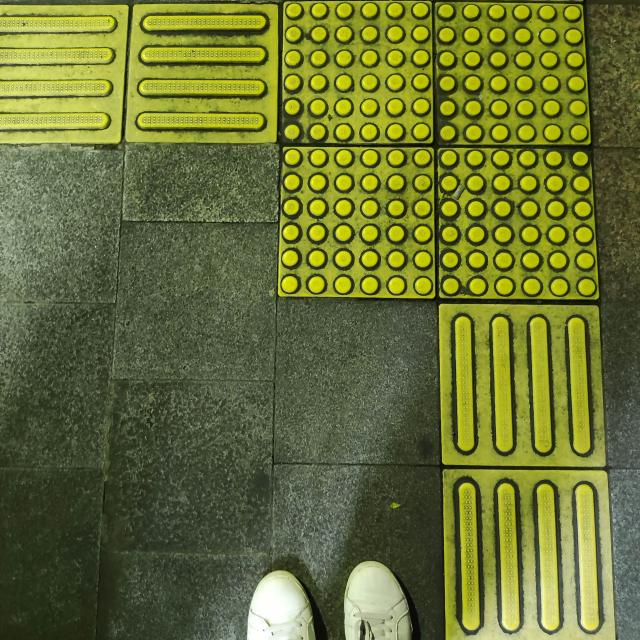kiri: (2, 0, 640, 456)
